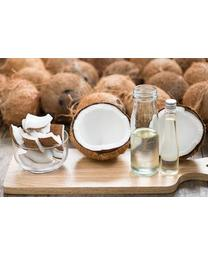coconut: (67, 101, 134, 161)
